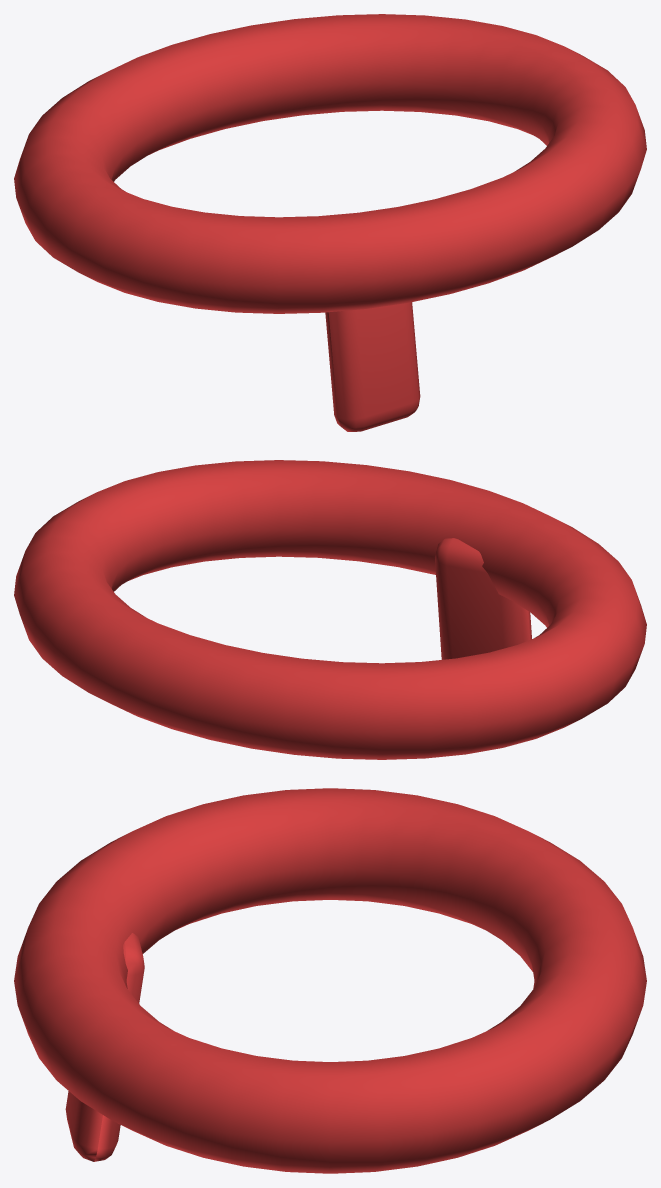
Rendered from wear-muffler.glb.
3 renders of one model, top to bottom at view 1: azimuth 30°, elevation 25°; view 2: azimuth 150°, elevation 25°; view 3: azimuth 270°, elevation 25°, orthographic. The views are drawn at different scales.
Visible parts, largest first — view 1: wear-muffler; view 2: wear-muffler; view 3: wear-muffler.
Part boxes in pixels (x1,y1,x2,y2): wear-muffler: (14, 14, 646, 431); wear-muffler: (14, 460, 646, 759); wear-muffler: (14, 788, 646, 1173).
Bounding box in the file's own units: 0.5475 × 0.1947 × 0.4555.
